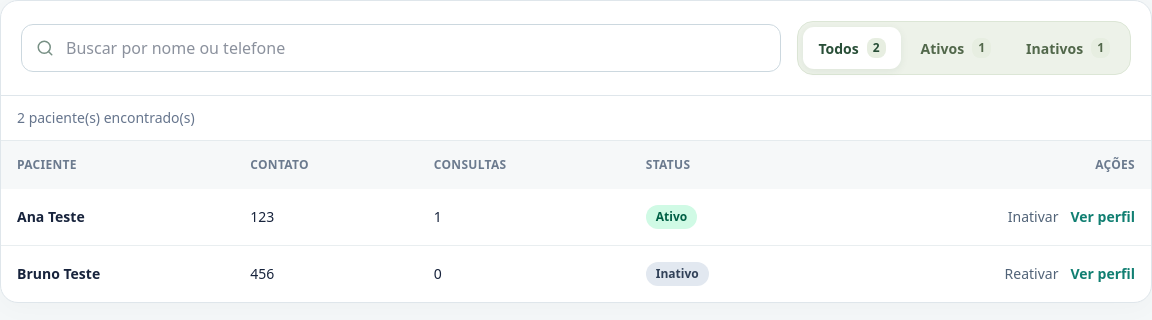
combina busca e status e permite limpar os dois filtros
Check: the text "2 paciente(s) encontrado(s)" is shown, box 17,108 -> 195,128
Click the button "Inativos 1" at coordinates (1068, 48), box 1011,27 -> 1125,69
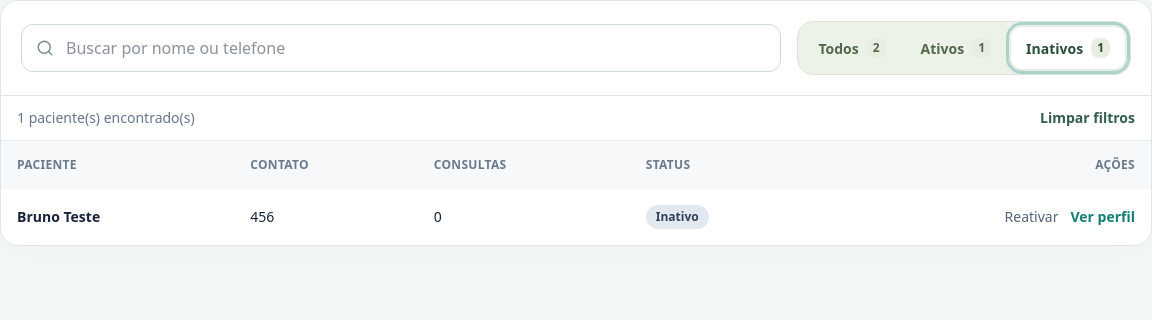
Check: the text "1 paciente(s) encontrado(s)" is shown, box 17,108 -> 195,128
Type "Ana" into the field named "Buscar pacientes" at coordinates (416, 48), box 66,25 -> 766,71
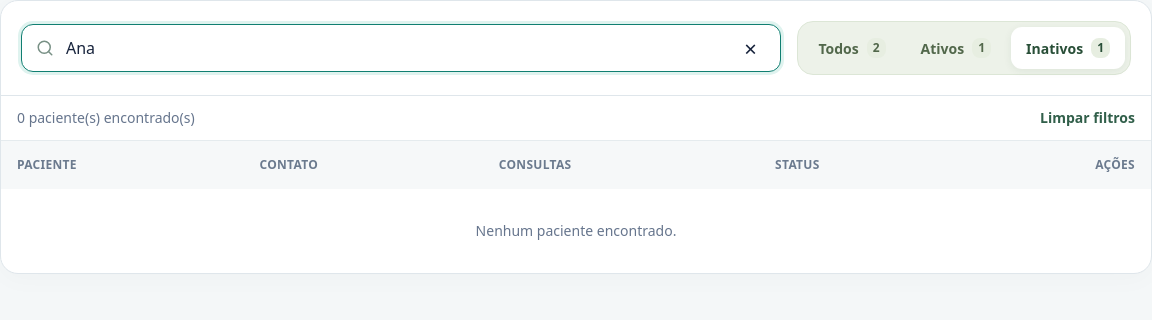
Check: the text "0 paciente(s) encontrado(s)" is shown, box 17,108 -> 195,128
Click the button "Limpar filtros" at coordinates (1088, 118), box 1040,108 -> 1135,128
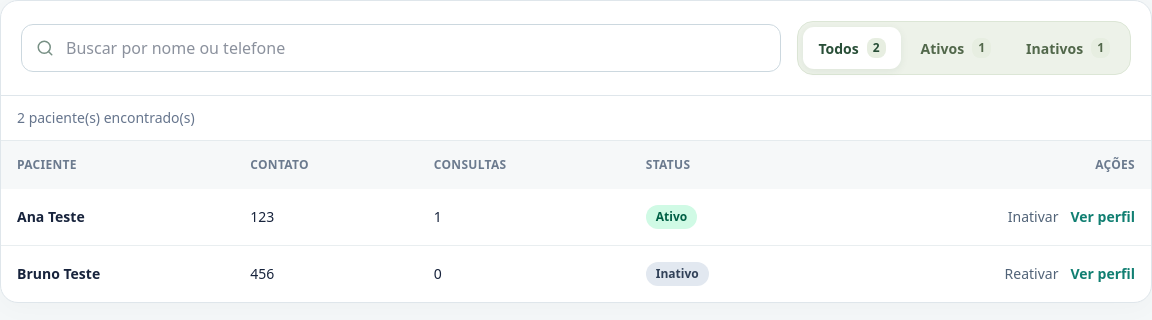
Check: the text "2 paciente(s) encontrado(s)" is shown, box 17,108 -> 195,128
Check: the field named "Buscar pacientes" is empty, box 66,25 -> 766,71
